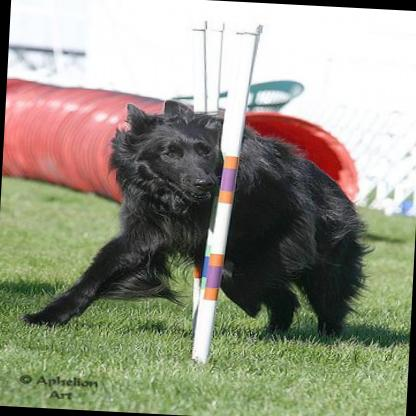groenendael: (19, 89, 379, 346)
